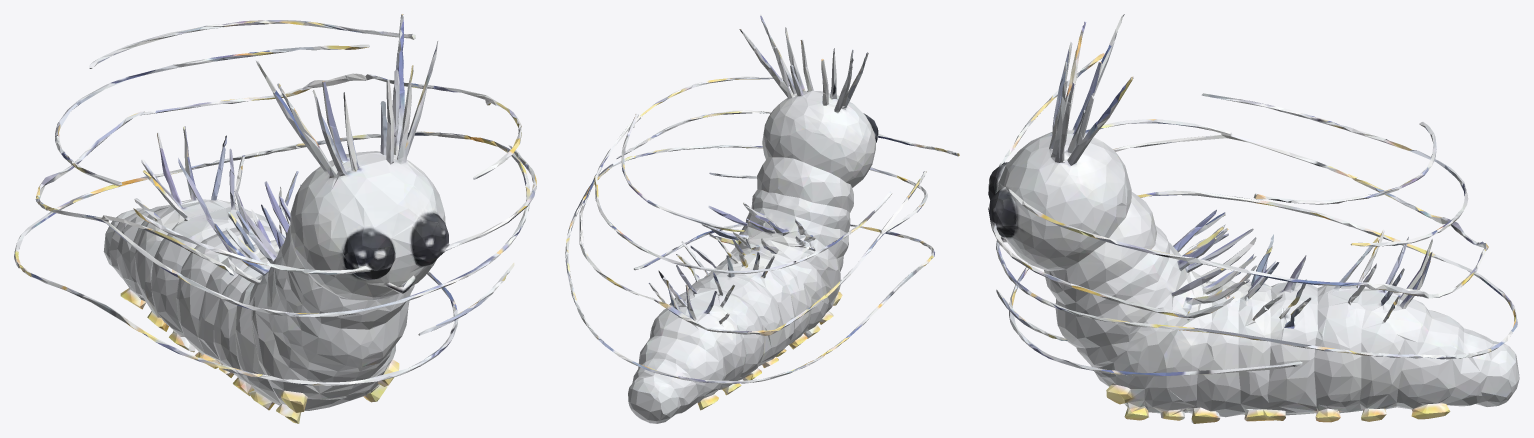
File: creature-015.lod.glb
The picture shows the model from 3 angles, left to right: view 1: azimuth 30°, elevation 25°; view 2: azimuth 150°, elevation 25°; view 3: azimuth 270°, elevation 25°; orthographic projection. The views are drawn at different scales.
Visible parts, largest first — view 1: tmporyk7nqw.ply; view 2: tmporyk7nqw.ply; view 3: tmporyk7nqw.ply.
Boxes of the visible parts, box(x1,y1,x2,y2) form: tmporyk7nqw.ply: box(14, 14, 536, 423); tmporyk7nqw.ply: box(565, 14, 959, 423); tmporyk7nqw.ply: box(988, 14, 1519, 423).
Bounding box in the file's own units: 1.75 × 1.5 × 1.99.
Materials: 1 (1 with a texture image).
